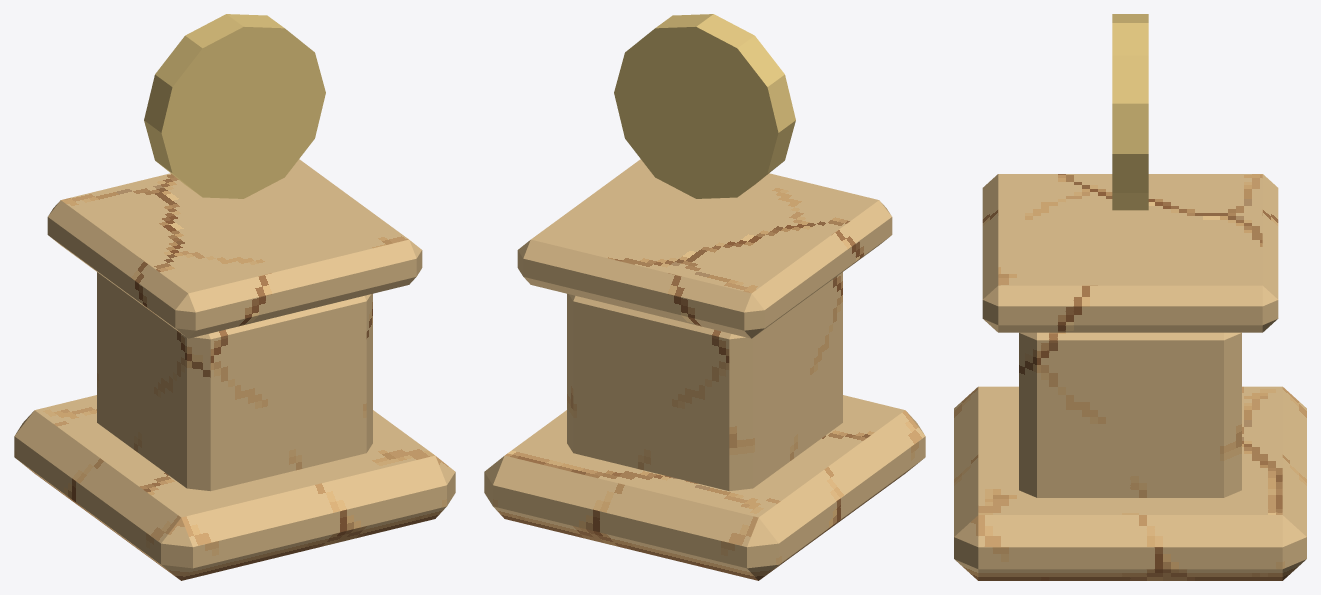
Rendered from pilar_galeao.glb.
3 views of the same model, side by side, from view 1: azimuth 30°, elevation 25°; view 2: azimuth 150°, elevation 25°; view 3: azimuth 270°, elevation 25° (orthographic). The views are drawn at different scales.
Visible parts, largest first — view 1: deserto_pilar_galeao; view 2: deserto_pilar_galeao; view 3: deserto_pilar_galeao.
Boxes of the visible parts, box(x1,y1,x2,y2) form: deserto_pilar_galeao: box(14, 14, 455, 580); deserto_pilar_galeao: box(484, 14, 925, 580); deserto_pilar_galeao: box(954, 14, 1306, 580).
Bounding box in the file's own units: 0.68 × 1.05 × 0.68.
Materials: 2 (1 with a texture image).
